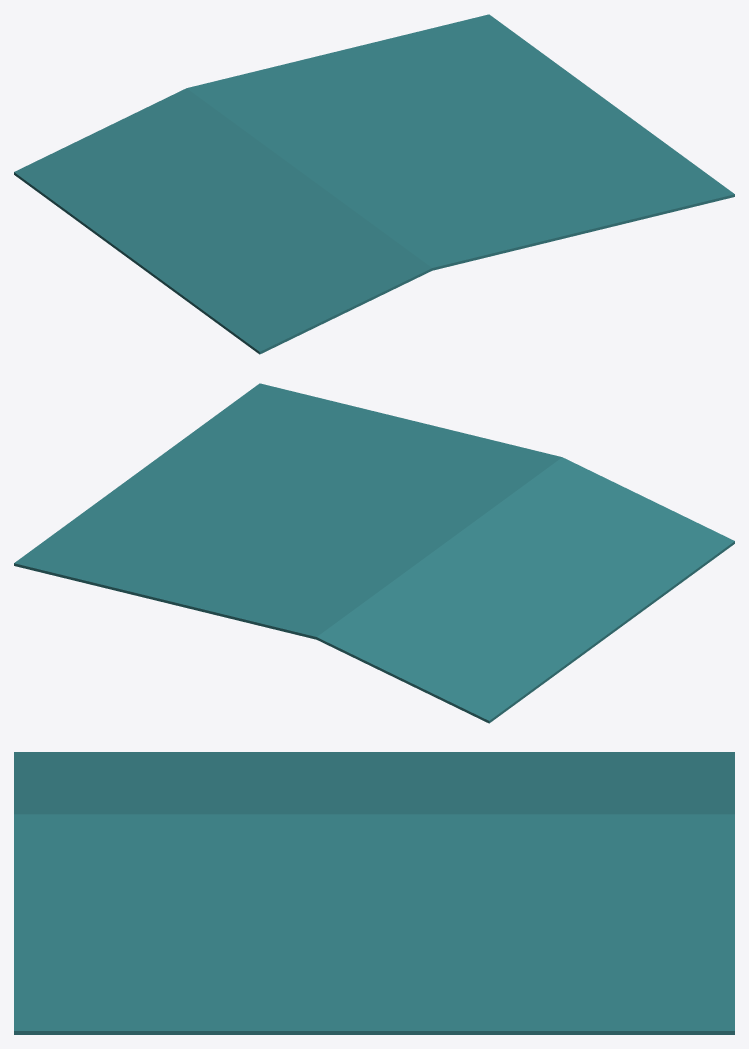
File: CEELING_LOW.fbx
3 views of the same model, one above another, from view 1: azimuth 30°, elevation 25°; view 2: azimuth 150°, elevation 25°; view 3: azimuth 270°, elevation 25° (orthographic). The views are drawn at different scales.
Visible parts, largest first — view 1: boy_ceeling_01_low; view 2: boy_ceeling_01_low; view 3: boy_ceeling_01_low.
Boxes of the visible parts, x1=… form: boy_ceeling_01_low: x1=14, y1=14, x2=734, y2=354; boy_ceeling_01_low: x1=14, y1=383, x2=734, y2=723; boy_ceeling_01_low: x1=14, y1=752, x2=734, y2=1034.
Bounding box in the file's own units: 8.32 × 0.7444 × 7.46.
